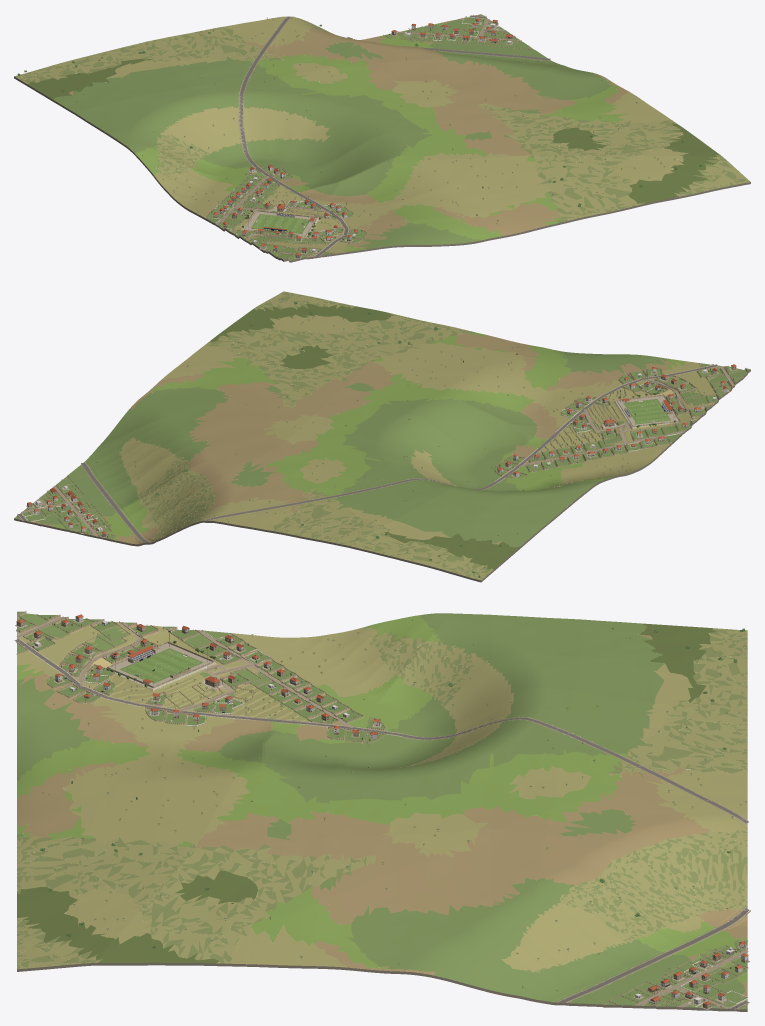
File: parca_+10_+0-yakin.glb
The picture shows the model from 3 angles, top to bottom: view 1: azimuth 30°, elevation 25°; view 2: azimuth 150°, elevation 25°; view 3: azimuth 270°, elevation 25°; orthographic projection. The views are drawn at different scales.
Visible parts, largest first — view 1: parca_+10_+0_arazi, parca_+10_+0_yapilar, parca_+10_+0_duvarlar, parca_+10_+0_yollar, parca_+10_+0_bitkiler; view 2: parca_+10_+0_arazi, parca_+10_+0_yapilar, parca_+10_+0_duvarlar, parca_+10_+0_yollar, parca_+10_+0_bitkiler; view 3: parca_+10_+0_arazi, parca_+10_+0_yapilar, parca_+10_+0_duvarlar, parca_+10_+0_yollar, parca_+10_+0_bitkiler.
Part boxes in pixels (<box>): parca_+10_+0_arazi: <box>14,14,750,262</box>; parca_+10_+0_yapilar: <box>213,18,514,259</box>; parca_+10_+0_duvarlar: <box>205,15,533,260</box>; parca_+10_+0_yollar: <box>216,15,550,256</box>; parca_+10_+0_bitkiler: <box>17,16,728,254</box>; parca_+10_+0_arazi: <box>14,291,750,582</box>; parca_+10_+0_yapilar: <box>26,364,737,537</box>; parca_+10_+0_duvarlar: <box>17,363,747,539</box>; parca_+10_+0_yollar: <box>17,364,734,543</box>; parca_+10_+0_bitkiler: <box>29,292,733,577</box>; parca_+10_+0_arazi: <box>17,611,747,1011</box>; parca_+10_+0_yapilar: <box>15,614,749,1009</box>; parca_+10_+0_duvarlar: <box>16,611,748,1009</box>; parca_+10_+0_yollar: <box>14,616,750,1009</box>; parca_+10_+0_bitkiler: <box>24,616,747,1004</box>.
Size of the model in its own units: 1010 by 142 by 1009.
